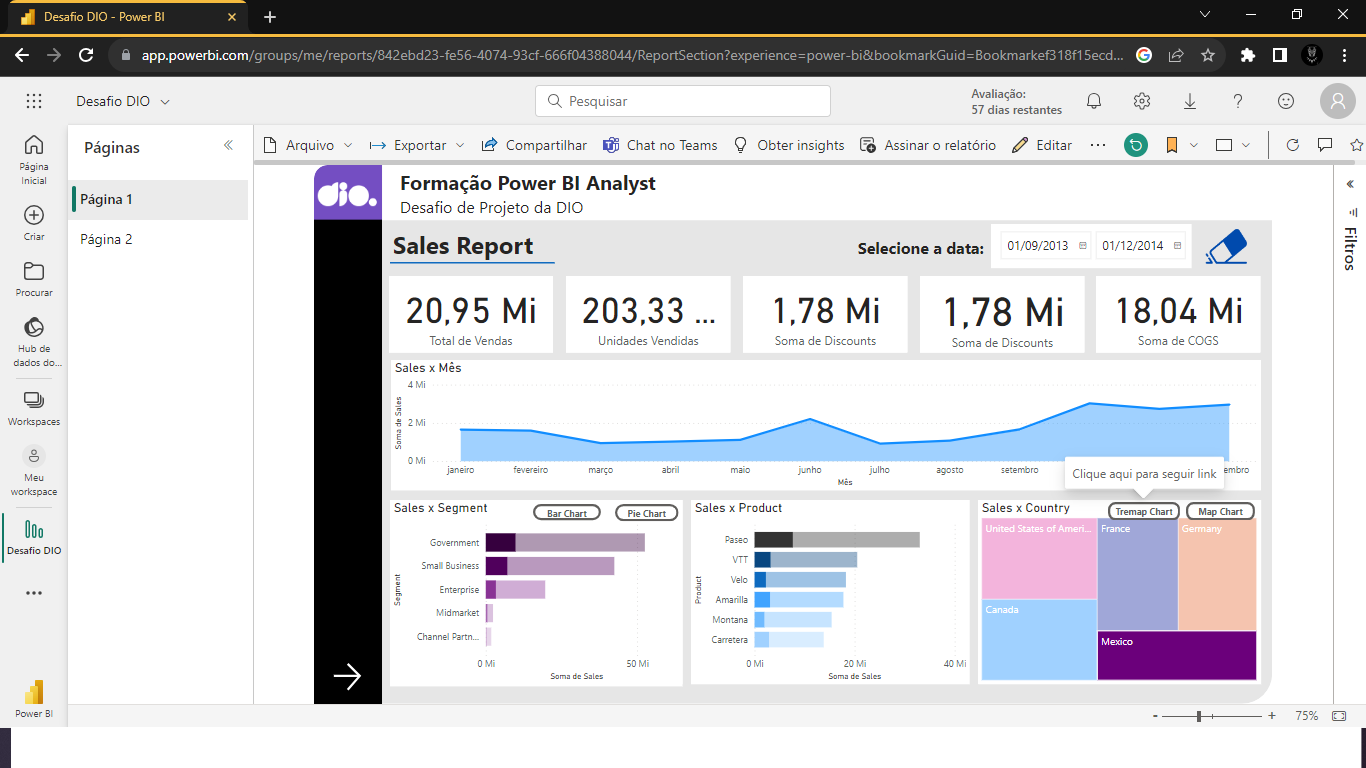

Layout of this report page (visuals, bound fields, positions):
{"tool":"powerbi","page":{"name":"Página 1","canvas":[1280,720],"ordinal":0},"visuals":[{"type":"shape","box":[0,0,1280,719.7],"z":0},{"type":"shape","box":[0,0,91.3,720.7],"z":0,"group":"g7"},{"type":"shape","box":[90.6,0,1189.4,73.8],"z":0,"group":"g6"},{"type":"textbox","title":"Data","box":[721.7,91.7,250,42.9],"z":0,"group":"g1"},{"type":"shape","box":[101.5,123.1,220,15.4],"z":0,"group":"g5"},{"type":"shape","box":[100.8,148.3,219.4,102.6],"z":0,"group":"g4"},{"type":"map","title":"Sales x Country","fields":{"Size":["Sum(financials. Sales)"],"Category":["financials.Country"]},"box":[887.7,447.6,376.9,246.2],"z":0,"group":"g2"},{"type":"clusteredBarChart","title":"Sales x Segment ","fields":{"Y":["Sum(financials. Sales)"],"Category":["financials.Segment"]},"box":[101.5,447.7,390.8,246.2],"z":0,"group":"g3"},{"type":"shape","box":[0,0,91.3,73.4],"z":1000,"group":"g7"},{"type":"textbox","box":[109.1,0,637.5,73.8],"z":1000,"group":"g6"},{"type":"textbox","box":[100,78.5,296.9,60],"z":1000,"group":"g5"},{"type":"slicer","fields":{"Values":["financials.Date"]},"box":[904.7,78.9,267.8,59],"z":1000,"group":"g1"},{"type":"shape","box":[337.3,148.3,219.4,102.6],"z":1000,"group":"g4"},{"type":"actionButton","title":"Botão - treemap","box":[1061.1,449.8,96.5,24.5],"z":1250,"group":"g2"},{"type":"actionButton","title":"Botão - map","box":[1164.7,449.8,92.2,24.5],"z":1500,"group":"g2"},{"type":"actionButton","title":"Botão - pie","box":[401.7,452.5,85,23],"z":1500,"group":"g3"},{"type":"actionButton","title":"Seta","box":[20.2,659.5,51.8,47.5],"z":1500,"group":"g7"},{"type":"image","title":"logo_dio","box":[0,0,89.2,78.5],"z":2000,"group":"g7"},{"type":"image","box":[1186.8,72.7,64.8,73.4],"z":2000,"group":"g1"},{"type":"shape","box":[810.2,148.3,219.4,102.6],"z":2000,"group":"g4"},{"type":"shape","box":[102.2,260.6,1162.1,174.2],"z":2000},{"type":"actionButton","title":"Botão - bar","box":[292.2,452.5,90.7,21.6],"z":2000,"group":"g3"},{"type":"actionButton","box":[1186.8,77.5,60.5,61.9],"z":3000,"group":"g1"},{"type":"shape","box":[573.7,148.3,219.4,102.6],"z":3000,"group":"g4"},{"type":"shape","box":[101.5,447.7,390.8,249.2],"z":3000},{"type":"shape","box":[1044.9,148.3,219.4,102.6],"z":4000,"group":"g4"},{"type":"shape","box":[503.1,447.7,372.3,246.2],"z":4000},{"type":"card","fields":{"Values":["Sum(financials.COGS)"]},"box":[1044.6,147.7,220,101.5],"z":5000,"group":"g4"},{"type":"shape","box":[887.7,447.7,376.9,246.2],"z":5000},{"type":"card","fields":{"Values":["Sum(financials.Discounts)"]},"box":[810.8,147.7,220,101.5],"z":6000,"group":"g4"},{"type":"card","fields":{"Values":["Sum(financials.Units Sold)"]},"box":[336.9,147.7,220,101.5],"z":7000,"group":"g4"},{"type":"areaChart","title":"Sales x Mês","fields":{"Y":["Sum(financials. Sales)"],"Category":["financials.Date.Variation.Hierarquia de datas.Mês"]},"box":[102.2,260.6,1162.1,174.2],"z":7000},{"type":"card","fields":{"Values":["Sum(financials.Discounts)"]},"box":[573.8,147.7,220,101.5],"z":8000,"group":"g4"},{"type":"clusteredBarChart","title":"Sales x Product","fields":{"Y":["Sum(financials. Sales)"],"Category":["financials.Product"]},"box":[503.1,447.7,372.3,246.2],"z":8000},{"type":"group","id":"g1","title":"Filtro X Data","box":[721.7,72.7,529.9,73.4],"z":9000},{"type":"card","fields":{"Values":["Sum(financials. Sales)"]},"box":[100.8,148.3,218.9,102.2],"z":9000,"group":"g4"},{"type":"group","id":"g2","title":"Sales X Country","box":[887.5,447.1,377.2,246.7],"z":10000},{"type":"group","id":"g3","title":"Sales X Segment","box":[101.5,447.7,390.9,246.4],"z":11000},{"type":"group","id":"g4","title":"Cartões","box":[100.8,147.7,1163.8,103.2],"z":11500},{"type":"group","id":"g5","title":"Titulo","box":[100,78.5,296.9,60],"z":12000},{"type":"group","id":"g6","title":"Formação","box":[90.6,0,1189.4,73.8],"z":13000},{"type":"group","id":"g7","title":"Logo X Formas","box":[0,0,91.3,720.7],"z":14000}]}

Visuals, with their boxes on the page's 1280x720 design canvas (x1, y1, x2, y2). These are canvas units, not pixel positions in the 1366x768 screenshot, which may show the page scaled, cropped or inside an application window:
shape: locate(0, 0, 1280, 720)
shape: locate(0, 0, 91, 721)
shape: locate(91, 0, 1280, 74)
"Data" textbox: locate(722, 92, 972, 135)
shape: locate(102, 123, 322, 138)
shape: locate(101, 148, 320, 251)
"Sales x Country" map: locate(888, 448, 1265, 694)
"Sales x Segment " clusteredBarChart: locate(102, 448, 492, 694)
shape: locate(0, 0, 91, 73)
textbox: locate(109, 0, 747, 74)
textbox: locate(100, 78, 397, 138)
slicer - financials.Date: locate(905, 79, 1172, 138)
shape: locate(337, 148, 557, 251)
"Botão - treemap" actionButton: locate(1061, 450, 1158, 474)
"Botão - map" actionButton: locate(1165, 450, 1257, 474)
"Botão - pie" actionButton: locate(402, 452, 487, 476)
"Seta" actionButton: locate(20, 660, 72, 707)
"logo_dio" image: locate(0, 0, 89, 78)
image: locate(1187, 73, 1252, 146)
shape: locate(810, 148, 1030, 251)
shape: locate(102, 261, 1264, 435)
"Botão - bar" actionButton: locate(292, 452, 383, 474)
actionButton: locate(1187, 78, 1247, 139)
shape: locate(574, 148, 793, 251)
shape: locate(102, 448, 492, 697)
shape: locate(1045, 148, 1264, 251)
shape: locate(503, 448, 875, 694)
card - Sum(financials.COGS): locate(1045, 148, 1265, 249)
shape: locate(888, 448, 1265, 694)
card - Sum(financials.Discounts): locate(811, 148, 1031, 249)
card - Sum(financials.Units Sold): locate(337, 148, 557, 249)
"Sales x Mês" areaChart: locate(102, 261, 1264, 435)
card - Sum(financials.Discounts): locate(574, 148, 794, 249)
"Sales x Product" clusteredBarChart: locate(503, 448, 875, 694)
"Filtro X Data" group: locate(722, 73, 1252, 146)
card - Sum(financials. Sales): locate(101, 148, 320, 250)
"Sales X Country" group: locate(888, 447, 1265, 694)
"Sales X Segment" group: locate(102, 448, 492, 694)
"Cartões" group: locate(101, 148, 1265, 251)
"Titulo" group: locate(100, 78, 397, 138)
"Formação" group: locate(91, 0, 1280, 74)
"Logo X Formas" group: locate(0, 0, 91, 721)
